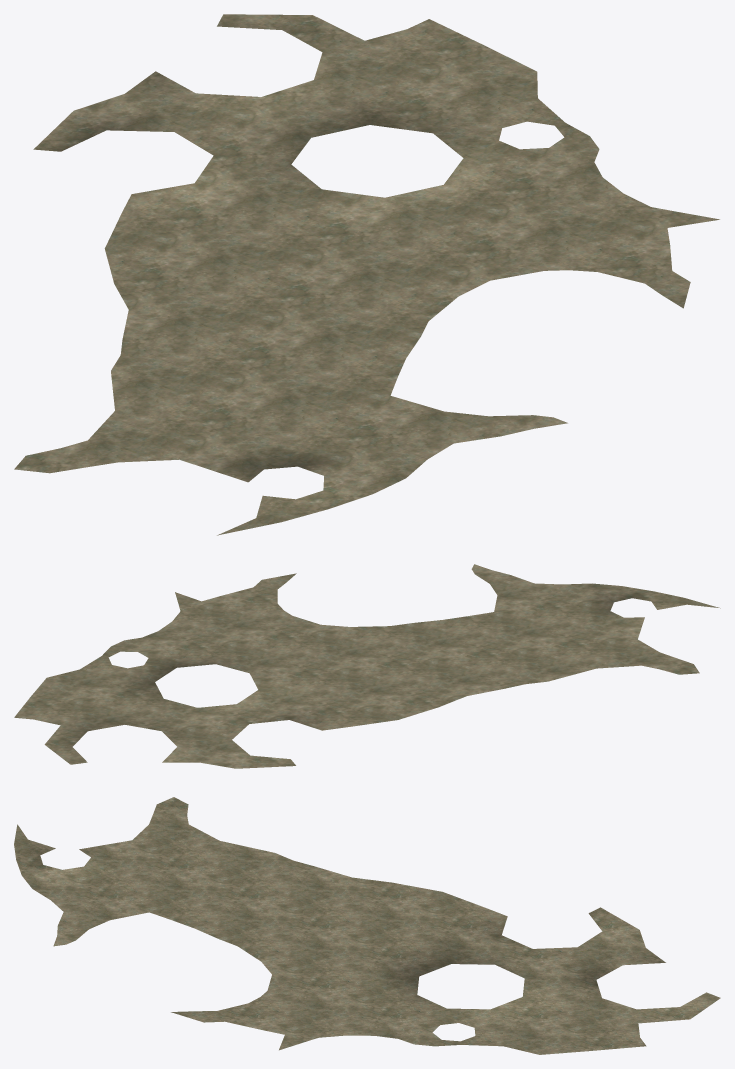
Rendered from EKH_CAVERNS_PS_CA_LINE37.fbx.
3 views of the same model, one above another, from view 1: azimuth 30°, elevation 25°; view 2: azimuth 150°, elevation 25°; view 3: azimuth 270°, elevation 25° (orthographic). The views are drawn at different scales.
Parts seen in each view (by area): view 1: EKH_CAVERNS_PS_CA_LINE37; view 2: EKH_CAVERNS_PS_CA_LINE37; view 3: EKH_CAVERNS_PS_CA_LINE37.
Boxes of the visible parts, x1,y1,x2,y2 form: EKH_CAVERNS_PS_CA_LINE37: [14, 14, 719, 535]; EKH_CAVERNS_PS_CA_LINE37: [14, 564, 720, 768]; EKH_CAVERNS_PS_CA_LINE37: [14, 797, 720, 1054].
Bounding box in the file's own units: 274505 × 0.1464 × 317932.
Materials: 1 (1 with a texture image).
